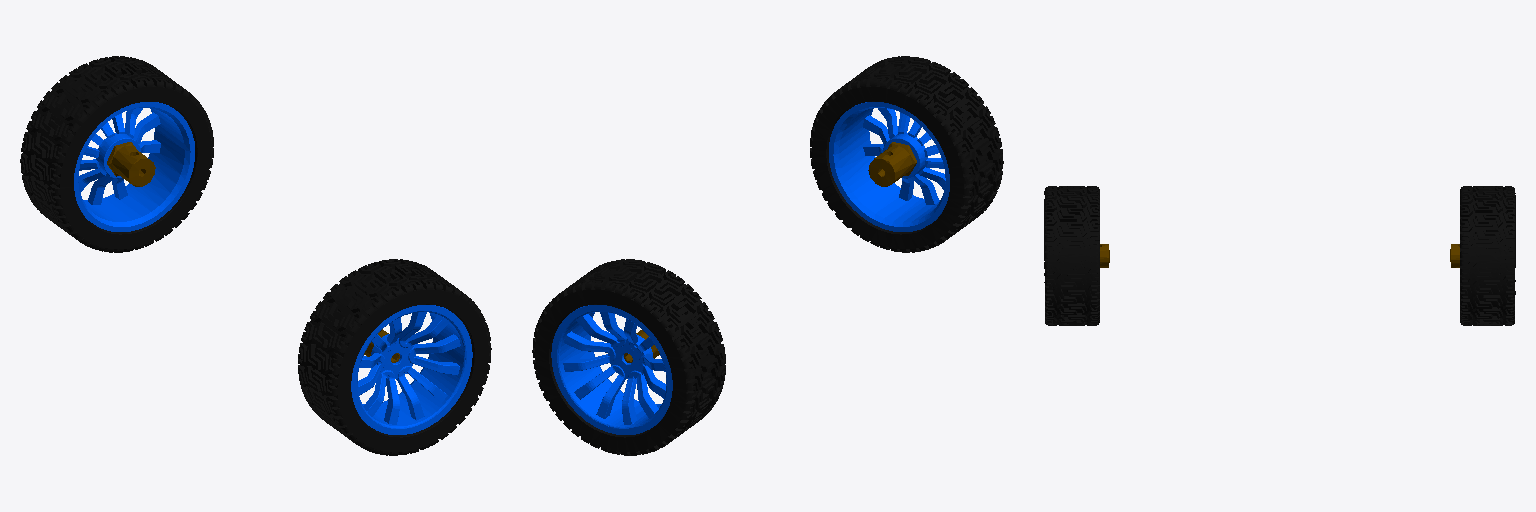
URDF robot description (lmr1_web):
<?xml version="1.0"?>

<robot name="lmr1_web">

  <!-- BASE -->

  <link name="base_link">

    <visual>
      <origin xyz="0 0 0" rpy="0 0 0"/>

      <geometry>
        <mesh filename="./meshes/base_light.dae"/>
      </geometry>

    </visual>

  </link>

  <!-- RIGHT WHEEL -->

  <link name="right_wheel_link">

    <visual>
      <origin xyz="0 0 0" rpy="0 -1.57 0"/>

      <geometry>
        <mesh filename="./meshes/wheel_light.dae"/>
      </geometry>

    </visual>

  </link>

  <joint
    name="right_wheel_joint"
    type="continuous">

    <origin
      xyz="0 -0.1015 0"
      rpy="1.5708 0 0"/>

    <parent link="base_link"/>
    <child link="right_wheel_link"/>

    <axis xyz="0 0 -1"/>

  </joint>

  <!-- LEFT WHEEL -->

  <link name="left_wheel_link">

    <visual>
      <origin xyz="0 0 0" rpy="0 -1.57 0"/>

      <geometry>
        <mesh filename="./meshes/wheel_light.dae"/>
      </geometry>

    </visual>

  </link>

  <joint
    name="left_wheel_joint"
    type="continuous">

    <origin
      xyz="0 0.1015 0"
      rpy="-1.5708 0 0"/>

    <parent link="base_link"/>
    <child link="left_wheel_link"/>

    <axis xyz="0 0 1"/>

  </joint>

</robot>

--- Render facts (derived) ---
3 views of the same robot in one strip: view 1: azimuth 30°, elevation 25°; view 2: azimuth 150°, elevation 25°; view 3: azimuth 270°, elevation 25° (orthographic).
Robot: lmr1_web — 3 links, 2 joints (2 continuous); root link base_link; default pose: all joints at 0.
Visible links, largest first — view 1: right_wheel_link, left_wheel_link; view 2: right_wheel_link, left_wheel_link; view 3: left_wheel_link, right_wheel_link.
Boxes of the visible links, x1,y1,x2,y2 form: right_wheel_link: (298,259,491,455); left_wheel_link: (20,56,213,252); right_wheel_link: (810,56,1003,252); left_wheel_link: (532,259,725,455); left_wheel_link: (1450,186,1515,325); right_wheel_link: (1044,186,1109,325).
Bounding box of the posed robot: 0.068 × 0.2301 × 0.068 m (x, y, z).
2 mesh visuals loaded from 2 distinct referenced files (1 Collada DAE); not drawn: 1 (reference not matched to a file when rendering).
